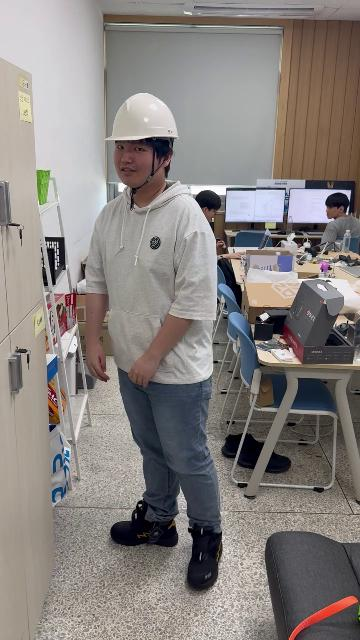helmet_worn: (103, 91, 182, 143)
shoe_not_worn: (236, 445, 291, 474), (222, 431, 255, 457)
shoe_worn: (110, 498, 179, 546), (186, 525, 221, 590)
vest_not_worn: (94, 189, 217, 386)
